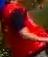red: (1, 1, 48, 57)
